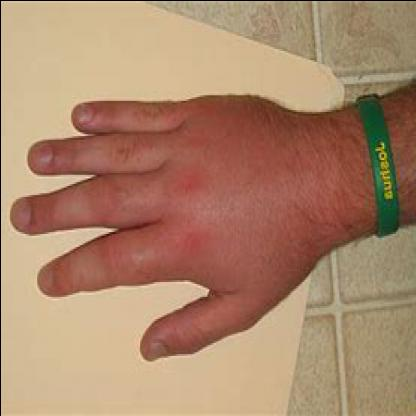Wasp: (102, 115, 306, 277)
